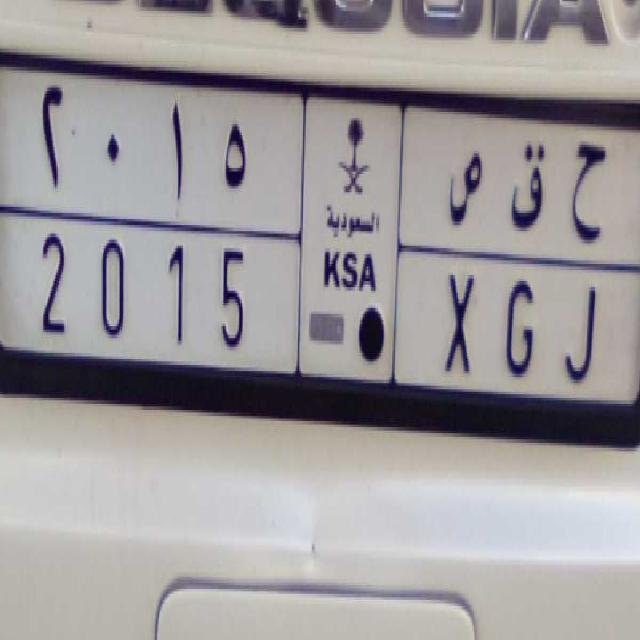license_plate: (23, 223, 615, 404)
